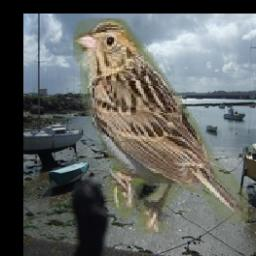Sparrow: (73, 19, 248, 235)
